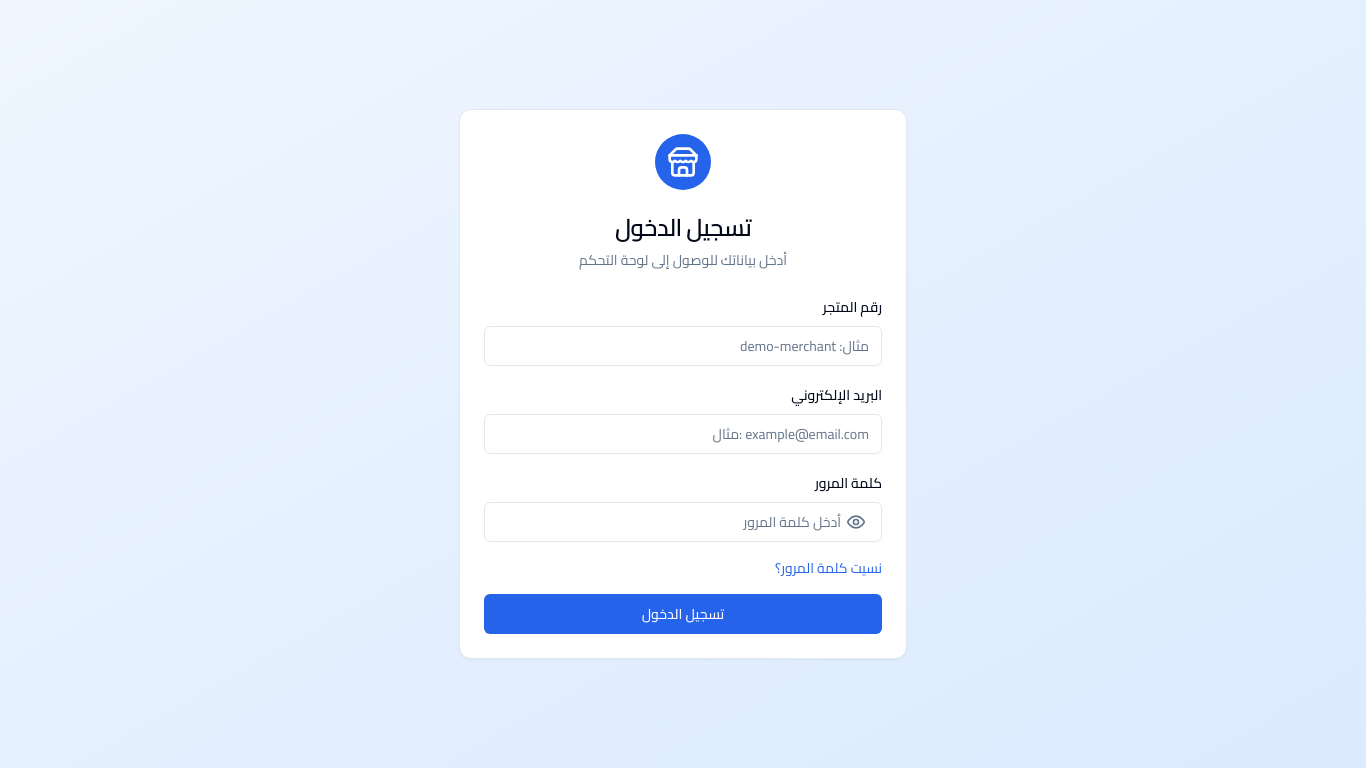
it: Login page › shows Arabic error for invalid credentials
Step 1. Type "demo-merchant" into the field labelled "رقم المتجر" → coordinates (683, 346), box [484,326,882,366]
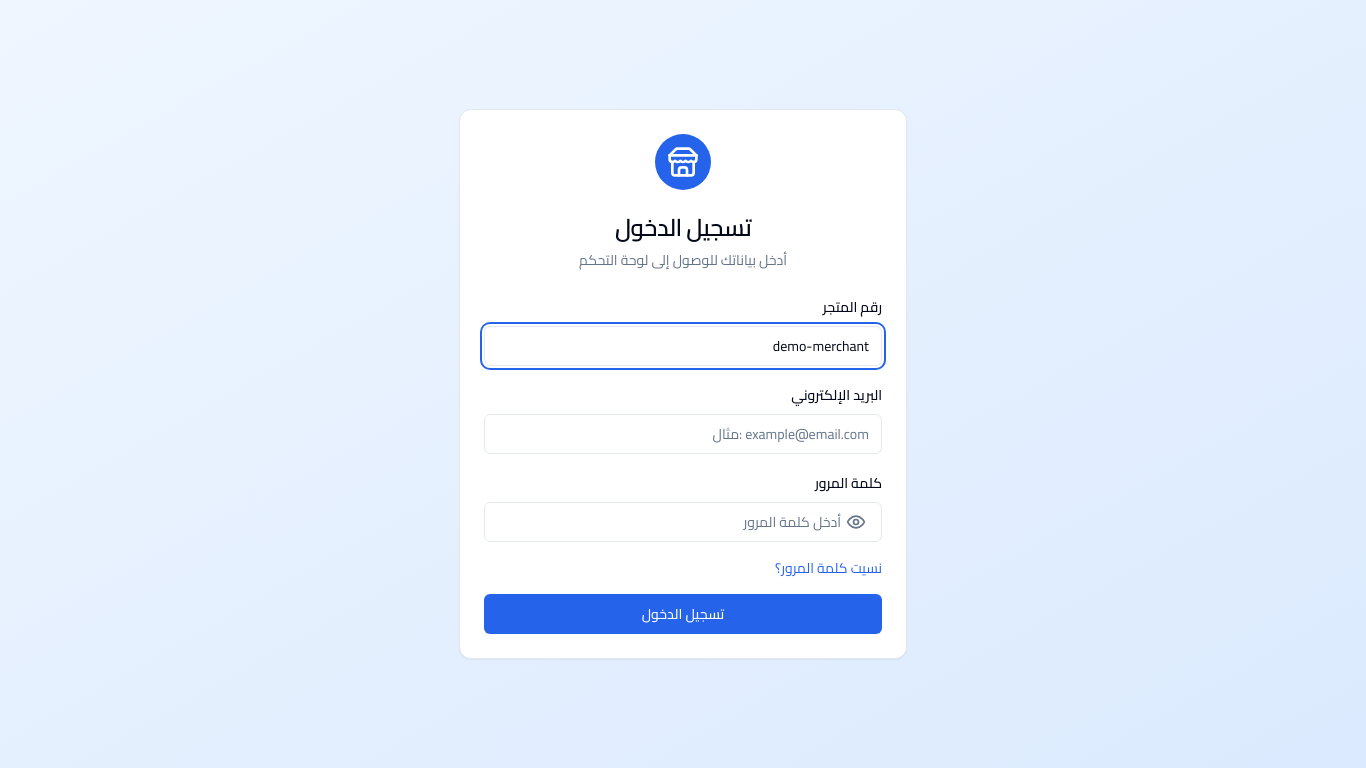
Step 2. Type "staff@test.com" into the field labelled "البريد الإلكتروني" → coordinates (683, 434), box [484,414,882,454]
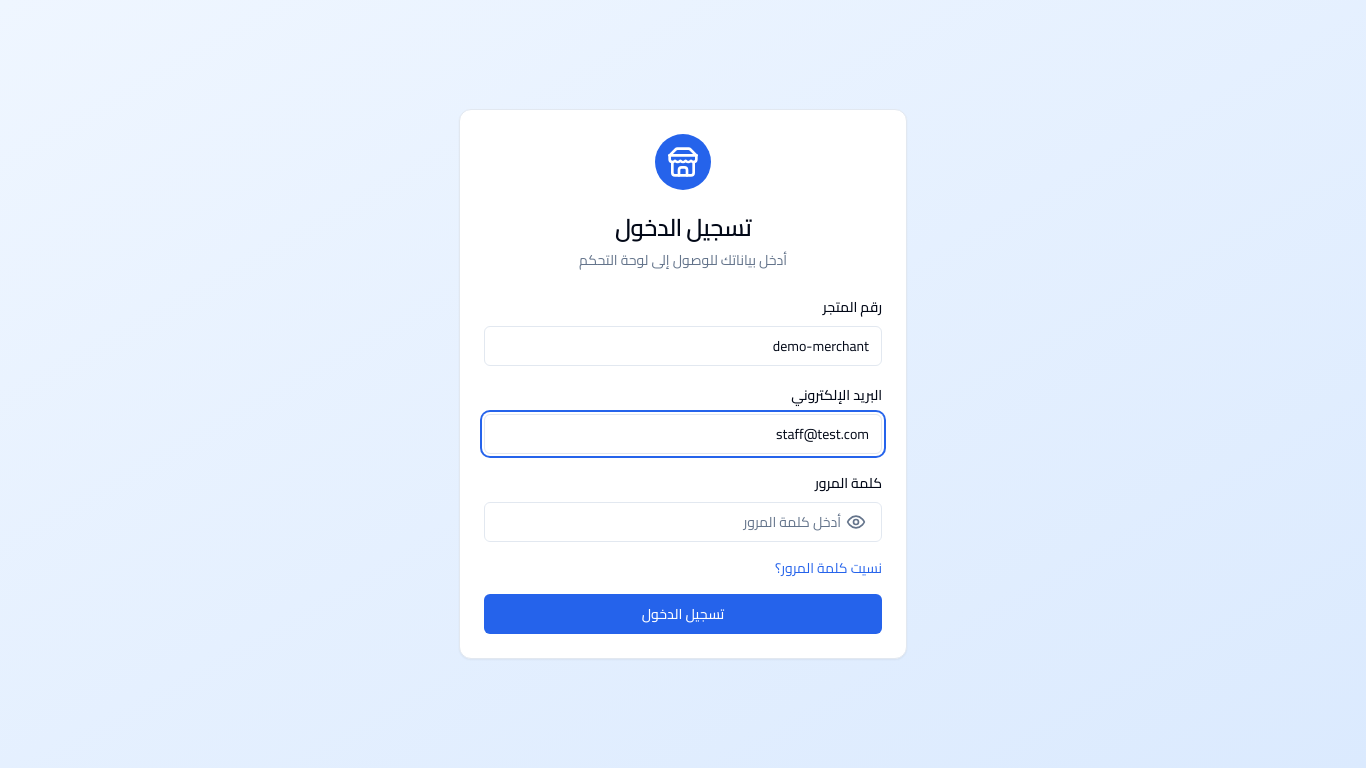
Step 3. Type "wrong-password" into the password field labelled "كلمة المرور" → coordinates (683, 522), box [484,502,882,542]
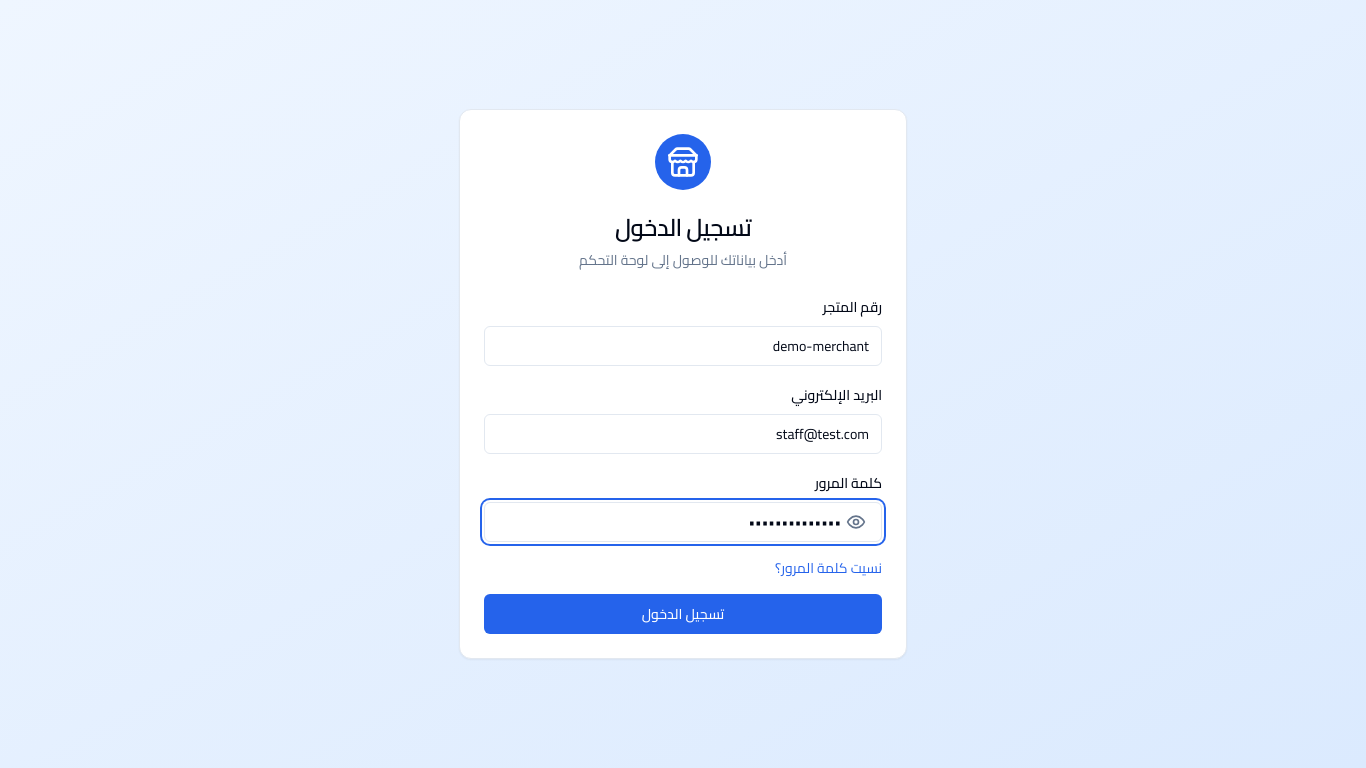
Step 4. Click the button "تسجيل الدخول" → coordinates (683, 614), box [484,594,882,634]
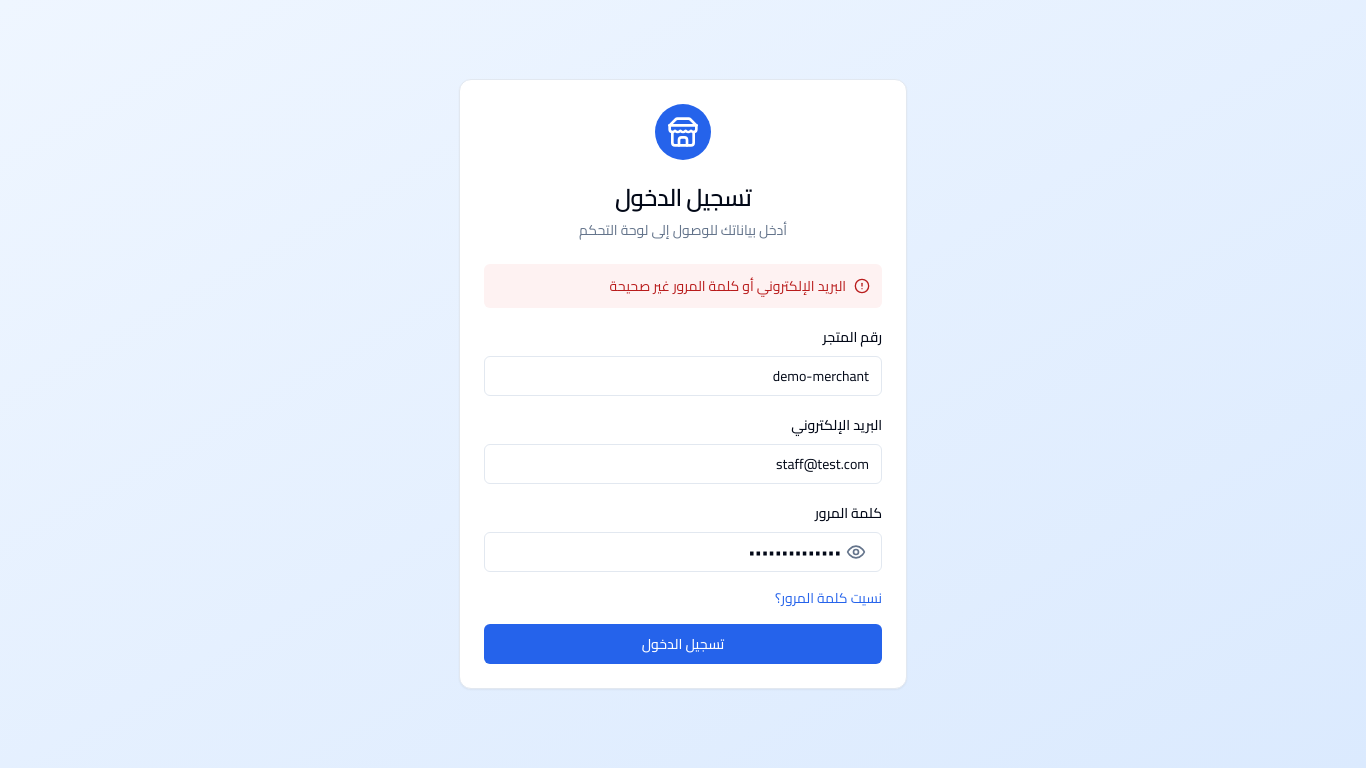
Check: the text "البريد الإلكتروني أو كلمة المرور غير صحيحة" is shown, box [610,276,846,296]
